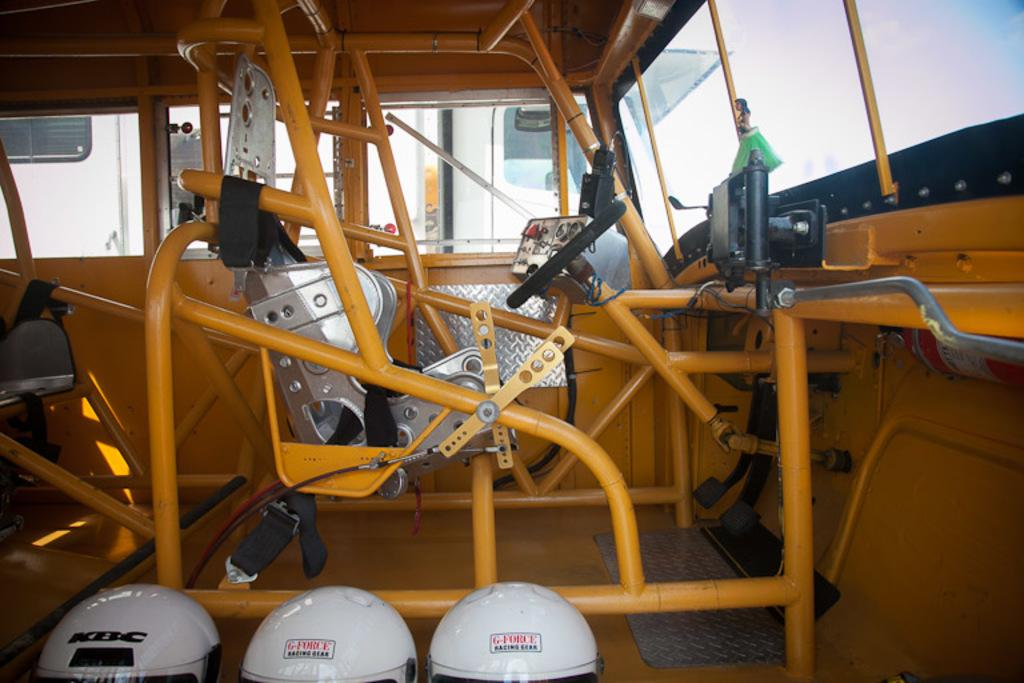helmet: (36, 583, 223, 683), (424, 581, 604, 683), (237, 585, 419, 683)
